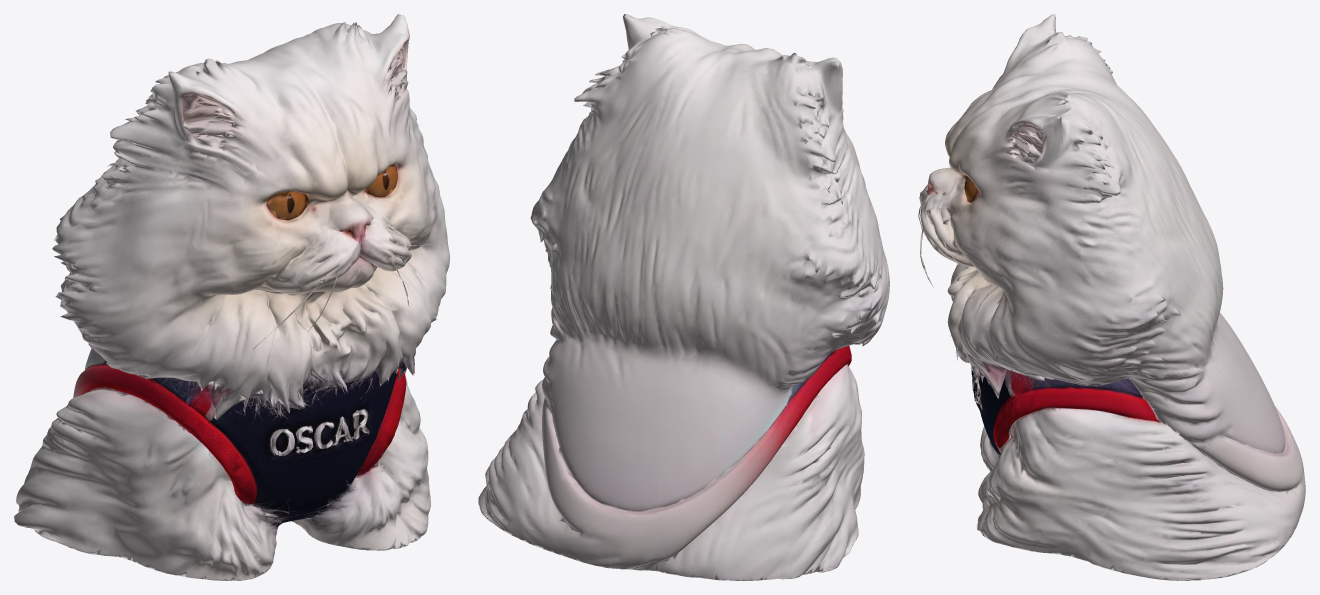
The model's file is oscar.glb.
3 renders of one model, left to right at view 1: azimuth 30°, elevation 25°; view 2: azimuth 150°, elevation 25°; view 3: azimuth 270°, elevation 25°, orthographic. The views are drawn at different scales.
Visible parts, largest first — view 1: tripo_node_f3058d8b-440b-4765-a60d-ce537944f232; view 2: tripo_node_f3058d8b-440b-4765-a60d-ce537944f232; view 3: tripo_node_f3058d8b-440b-4765-a60d-ce537944f232.
Part boxes in pixels (box(x1,y1,x2,y2)): tripo_node_f3058d8b-440b-4765-a60d-ce537944f232: box(14, 14, 449, 580); tripo_node_f3058d8b-440b-4765-a60d-ce537944f232: box(478, 14, 889, 580); tripo_node_f3058d8b-440b-4765-a60d-ce537944f232: box(918, 14, 1305, 580).
Bounding box in the file's own units: 0.8138 × 0.9792 × 0.7935.
1 material, 1 textured.
